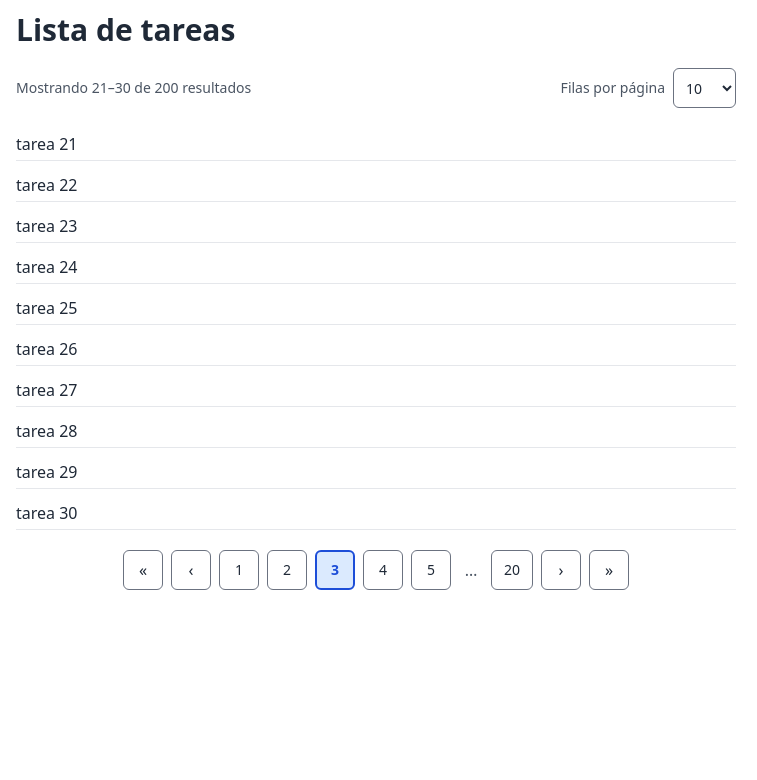
Test: D15/A3 — cambiar el tamaño de página no rompe nada (DEC-07) › el usuario queda anclado al elemento que estaba mirando
The image size is (757, 780).
Expected: the list item "tarea 21" is shown, x1=16 y1=128 x2=736 y2=161
Select "20" in the dropdown labelled "Filas por página". click: (704, 88)
box: x1=673 y1=68 x2=736 y2=108
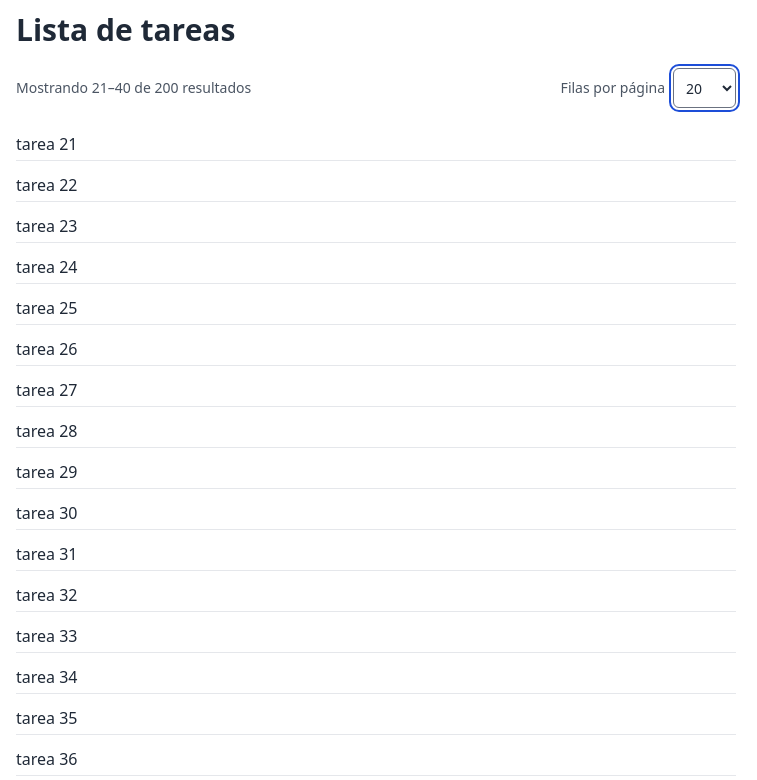
Expected: the list item "tarea 21" is shown, x1=16 y1=128 x2=736 y2=161
Expected: the text "Mostrando 21–40 de 200 resultados" is shown, x1=16 y1=78 x2=251 y2=98
